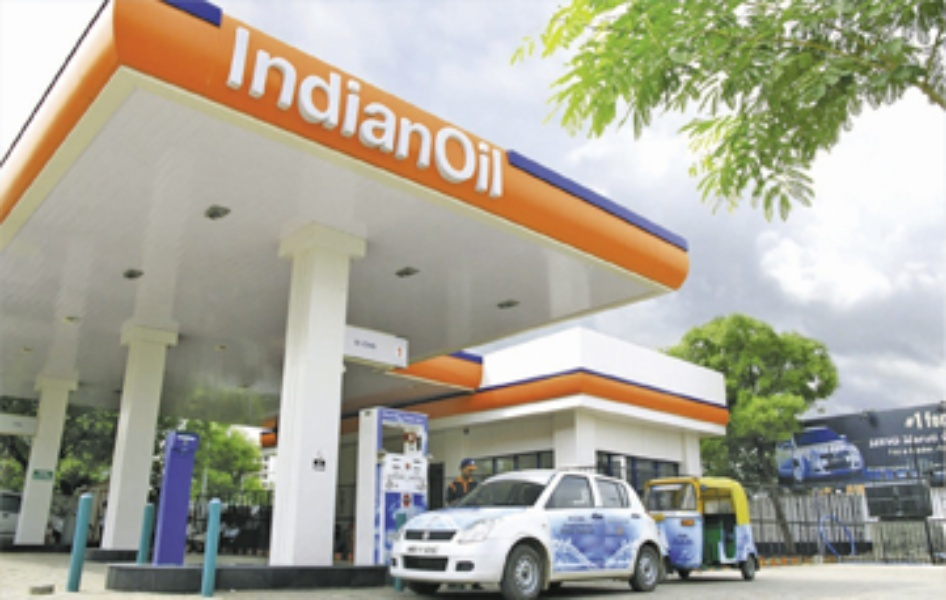text: (241, 21, 256, 205), (257, 21, 272, 205), (273, 21, 288, 205), (289, 21, 304, 205), (305, 21, 320, 205), (321, 21, 336, 205), (337, 21, 352, 205), (353, 21, 368, 205), (369, 21, 384, 205), (385, 21, 400, 205), (401, 21, 416, 205), (417, 21, 432, 205), (433, 21, 448, 205), (449, 21, 464, 205), (465, 21, 480, 205), (481, 21, 496, 205), (497, 21, 506, 205), (234, 21, 240, 205), (913, 409, 928, 433), (929, 409, 944, 433), (881, 433, 896, 446), (897, 433, 912, 446), (913, 433, 928, 446), (929, 433, 944, 446), (897, 446, 912, 459), (913, 446, 928, 459), (929, 446, 944, 459), (905, 409, 912, 433), (868, 433, 880, 446), (886, 446, 896, 459), (945, 409, 946, 433), (945, 433, 946, 446), (945, 446, 946, 459)
